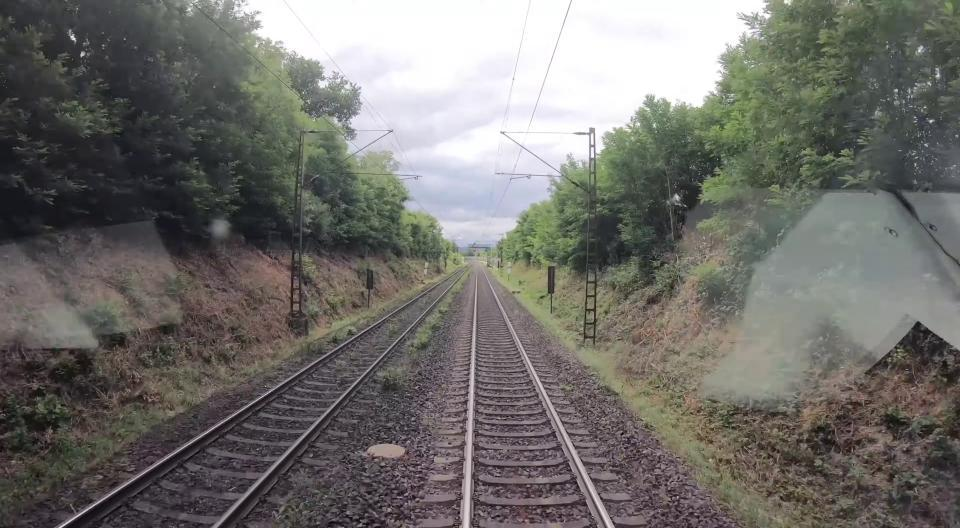Plant: (409, 269, 472, 359), (305, 324, 356, 356), (380, 366, 408, 391), (360, 312, 377, 326), (334, 361, 348, 376), (388, 324, 400, 338)
